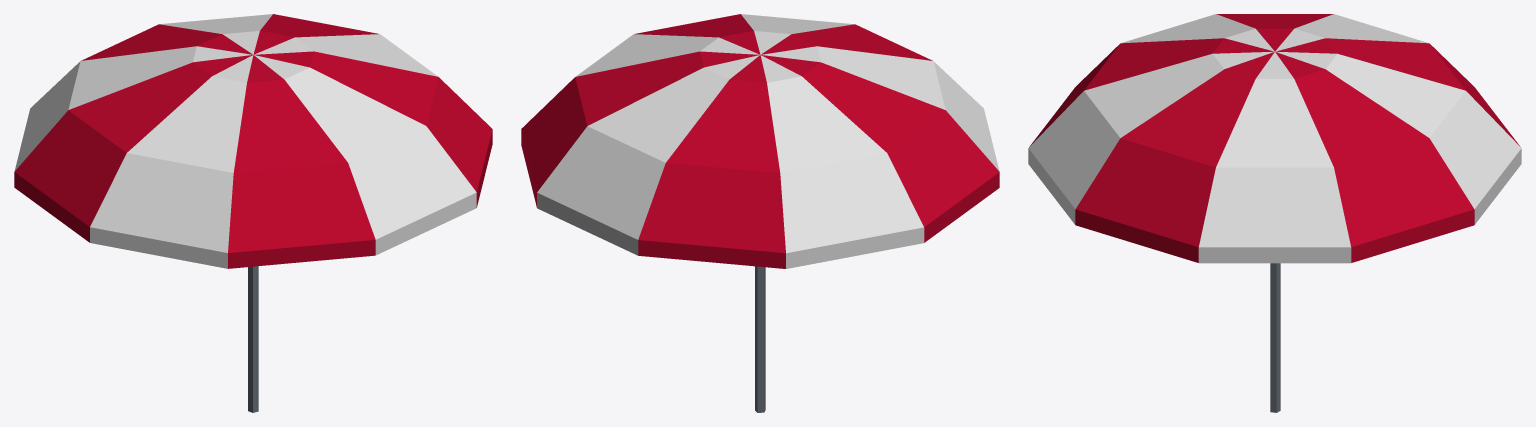
The model's file is parasol.fbx.
The picture shows the model from 3 angles, left to right: view 1: azimuth 30°, elevation 25°; view 2: azimuth 150°, elevation 25°; view 3: azimuth 270°, elevation 25°; orthographic projection.
Visible parts, largest first — view 1: 円, 円柱; view 2: 円, 円柱; view 3: 円, 円柱.
Boxes of the visible parts, x1,y1,x2,y2 form: 円: [14, 14, 492, 268]; 円柱: [248, 266, 258, 412]; 円: [521, 14, 999, 268]; 円柱: [755, 266, 765, 412]; 円: [1028, 14, 1521, 263]; 円柱: [1270, 263, 1280, 412].
Size of the model in its own units: 163 by 137 by 171.
